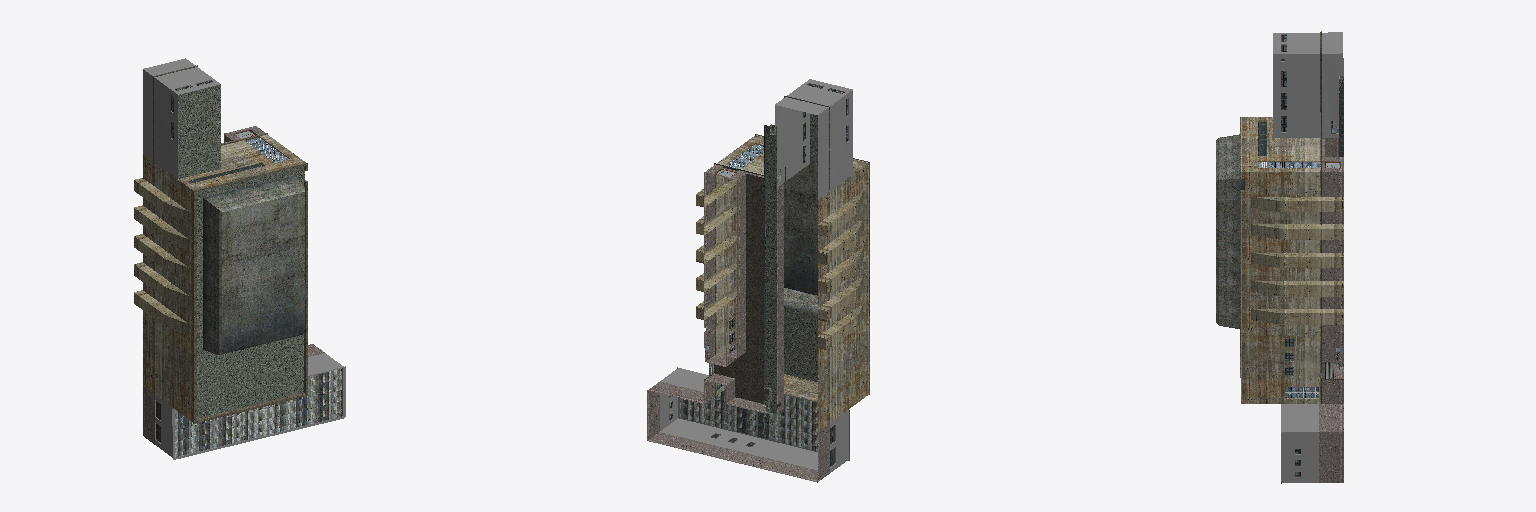
3 views of the same model, side by side, from view 1: azimuth 30°, elevation 25°; view 2: azimuth 150°, elevation 25°; view 3: azimuth 270°, elevation 25° (orthographic).
Visible parts, largest first — view 1: MSH_Object; view 2: MSH_Object; view 3: MSH_Object.
Boxes of the visible parts, x1,y1,x2,y2 form: MSH_Object: [134, 58, 345, 459]; MSH_Object: [647, 79, 869, 482]; MSH_Object: [1216, 31, 1343, 483].
Size of the model in its own units: 67.07 by 131 by 41.08.
Materials: 16 (15 with a texture image).